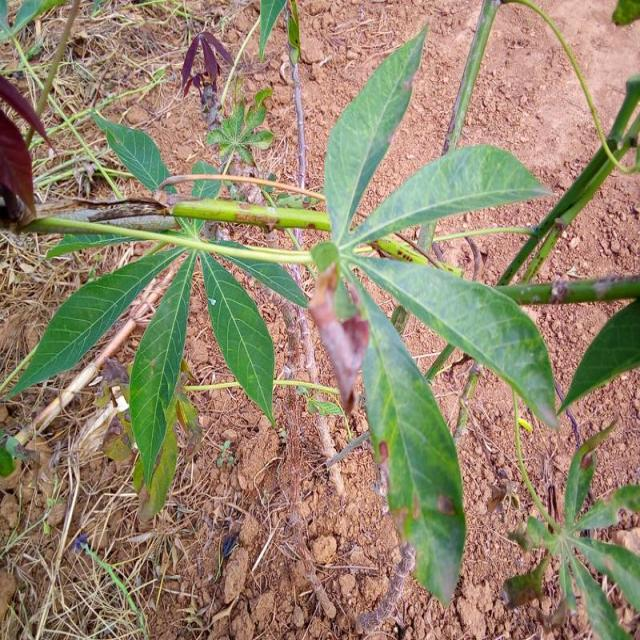cassava leaf: (343, 263, 467, 610), (350, 251, 560, 430), (2, 242, 188, 402), (322, 22, 430, 246), (345, 142, 553, 248), (127, 246, 197, 488), (198, 246, 276, 428), (555, 296, 639, 415), (89, 108, 173, 193)
